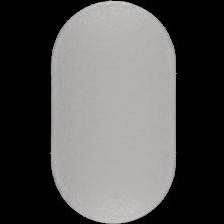21695-717: (0, 0, 224, 224)
